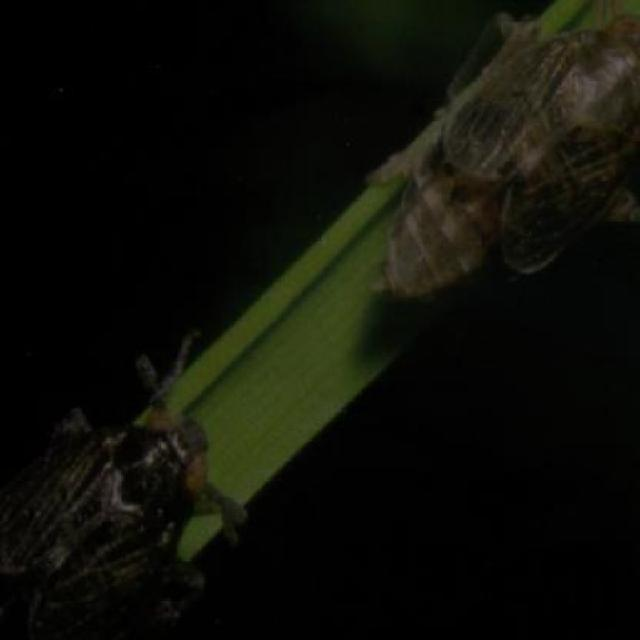rice-bug: (378, 11, 636, 297), (3, 357, 237, 638)
